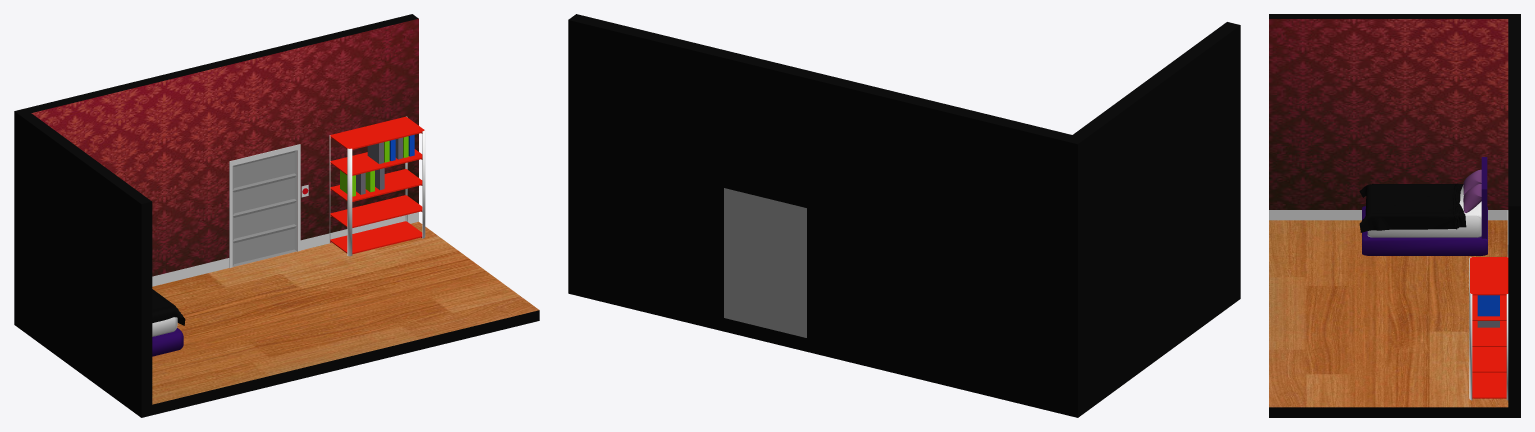
The model's file is RoomCCC.glb.
3 renders of one model, left to right at view 1: azimuth 30°, elevation 25°; view 2: azimuth 150°, elevation 25°; view 3: azimuth 270°, elevation 25°, orthographic. The views are drawn at different scales.
Parts seen in each view (by area): view 1: Room, Cube.002, Door, Cube.003, Duvet, Mattress.003; view 2: Room, Door; view 3: Room, Duvet, Cube.002, Mattress.003, Mattress.002, Cube.003, Cube.001, Book1, Pillow.003, Pillow.002.
Boxes of the visible parts, x1,y1,x2,y2 form: Room: [14, 14, 539, 417]; Cube.002: [330, 116, 424, 254]; Door: [232, 150, 296, 266]; Cube.003: [329, 116, 425, 256]; Duvet: [152, 289, 185, 325]; Mattress.003: [152, 328, 183, 356]; Room: [568, 14, 1240, 417]; Door: [724, 188, 806, 337]; Room: [1269, 14, 1520, 417]; Duvet: [1359, 183, 1466, 232]; Cube.002: [1470, 257, 1508, 398]; Mattress.003: [1362, 206, 1487, 255]; Mattress.002: [1367, 185, 1481, 237]; Cube.003: [1469, 257, 1508, 400]; Cube.001: [1481, 157, 1487, 238]; Book1: [1477, 295, 1499, 316]; Pillow.003: [1463, 184, 1481, 212]; Pillow.002: [1463, 169, 1481, 194].
Bounding box in the file's own units: 3.73 × 1.91 × 2.06.
Materials: 17 (2 with a texture image).
